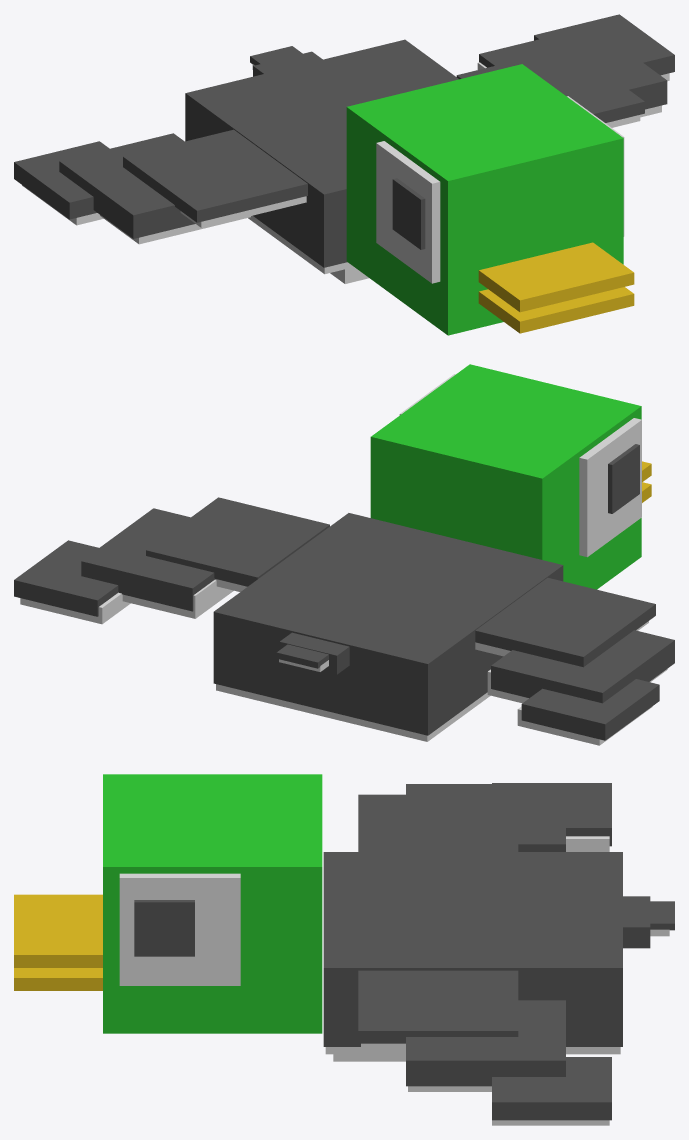
The model's file is duck.fbx.
3 views of the same model, one above another, from view 1: azimuth 30°, elevation 25°; view 2: azimuth 150°, elevation 25°; view 3: azimuth 270°, elevation 25° (orthographic). The views are drawn at different scales.
Parts seen in each view (by area): view 1: Cube, Cube.001, Cube.012, Cube.014, Cube.005, Cube.004, Cube.006, Cube.013, Cube.008, Cube.009, Cube.011, Cube.016; view 2: Cube.001, Cube, Cube.012, Cube.014, Cube.004, Cube.007, Cube.011, Cube.013, Cube.008, Cube.009, Cube.016; view 3: Cube.001, Cube, Cube.014, Cube.012, Cube.003, Cube.005, Cube.010, Cube.006, Cube.007, Cube.009, Cube.011, Cube.016 (+2 smaller).
Part boxes in pixels (box(x1,y1,x2,y2)): Cube: box(346, 64, 623, 335); Cube.001: box(185, 39, 458, 267); Cube.012: box(14, 129, 307, 238); Cube.014: box(456, 14, 674, 122); Cube.005: box(478, 242, 634, 312); Cube.004: box(376, 141, 440, 283); Cube.006: box(478, 287, 634, 333); Cube.013: box(392, 178, 425, 249); Cube.008: box(22, 185, 306, 244); Cube.009: box(253, 51, 322, 76); Cube.011: box(248, 215, 353, 274); Cube.016: box(250, 46, 302, 65); Cube.001: box(213, 513, 563, 735); Cube: box(370, 364, 641, 589); Cube.012: box(475, 577, 674, 740); Cube.014: box(14, 497, 329, 616); Cube.004: box(579, 418, 641, 557); Cube.007: box(20, 579, 247, 624); Cube.011: box(216, 684, 490, 741); Cube.013: box(608, 444, 639, 513); Cube.008: box(475, 621, 667, 745); Cube.009: box(279, 632, 349, 674); Cube.016: box(276, 644, 328, 668); Cube.001: box(323, 852, 622, 1046); Cube: box(103, 774, 322, 1033); Cube.014: box(358, 970, 611, 1120); Cube.012: box(358, 783, 611, 851); Cube.003: box(119, 873, 240, 985); Cube.005: box(14, 894, 102, 967); Cube.010: box(134, 900, 194, 956); Cube.006: box(14, 968, 102, 990); Cube.007: box(361, 1043, 609, 1125); Cube.009: box(623, 896, 650, 948); Cube.011: box(325, 1047, 620, 1054); Cube.016: box(650, 901, 674, 930).
Size of the model in its own units: 149 by 42.68 by 130.
